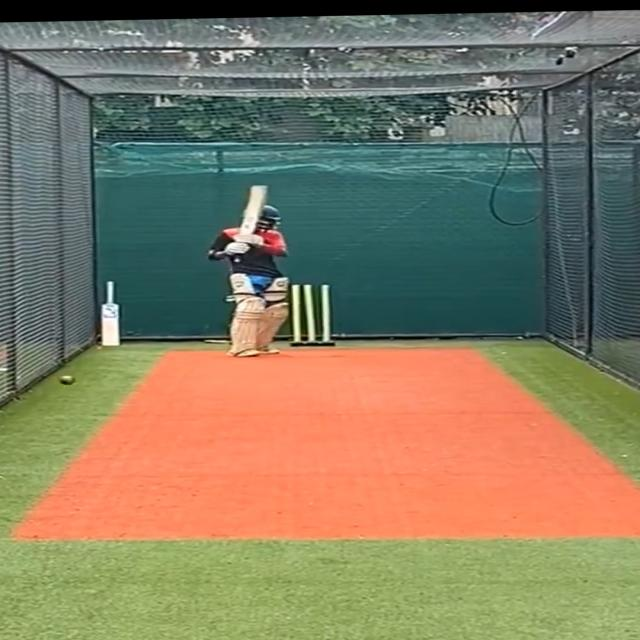ball: (53, 372, 81, 388)
stump: (292, 279, 336, 349)
